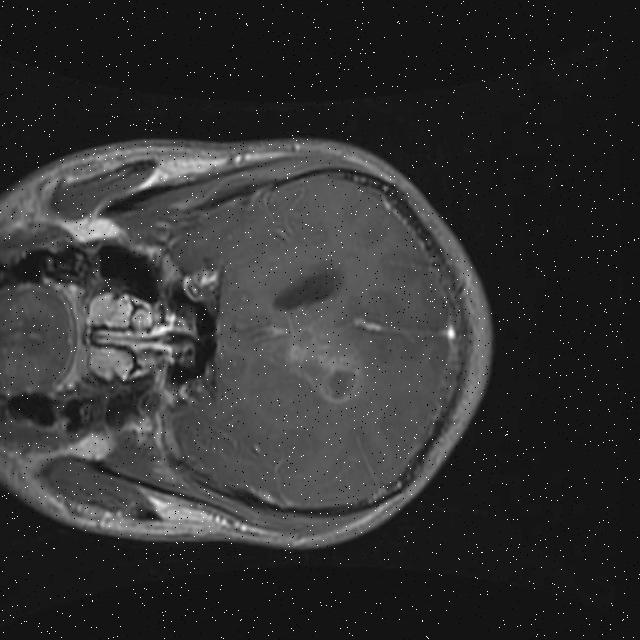Glioma: (279, 324, 365, 408)
